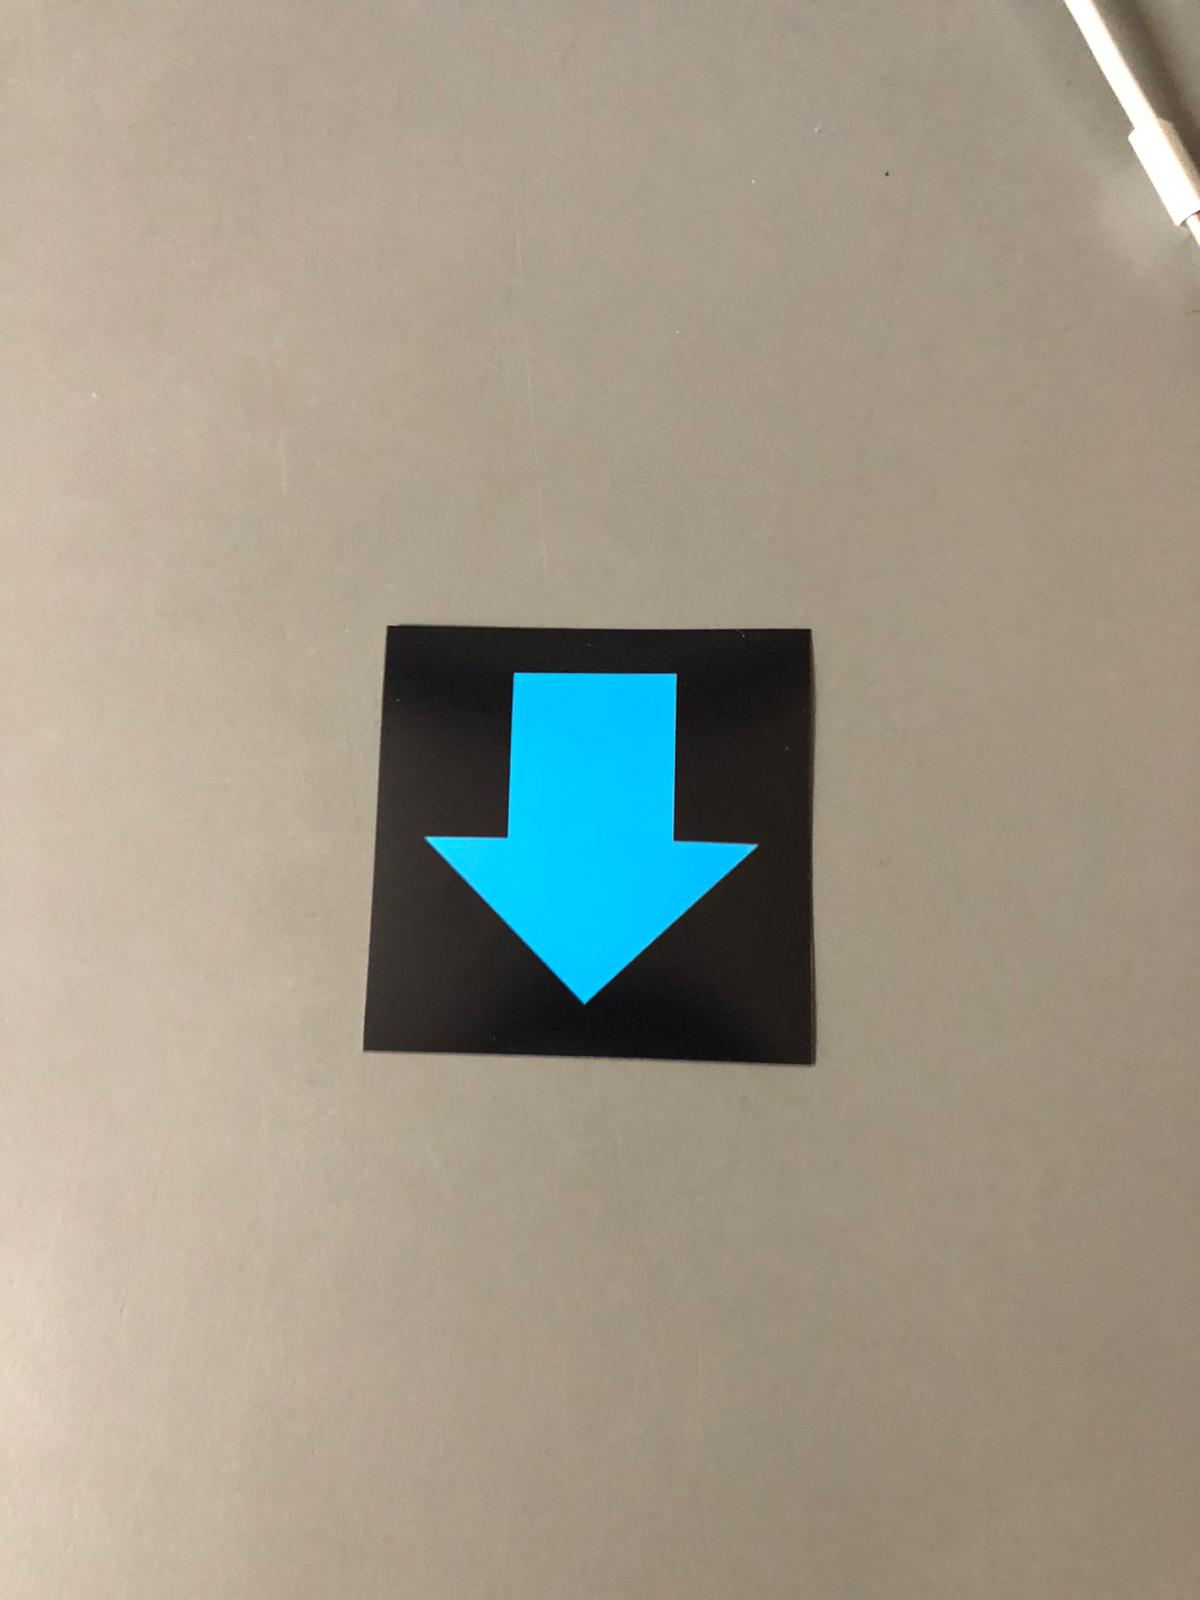Down Arrow: (372, 636, 783, 1053)
